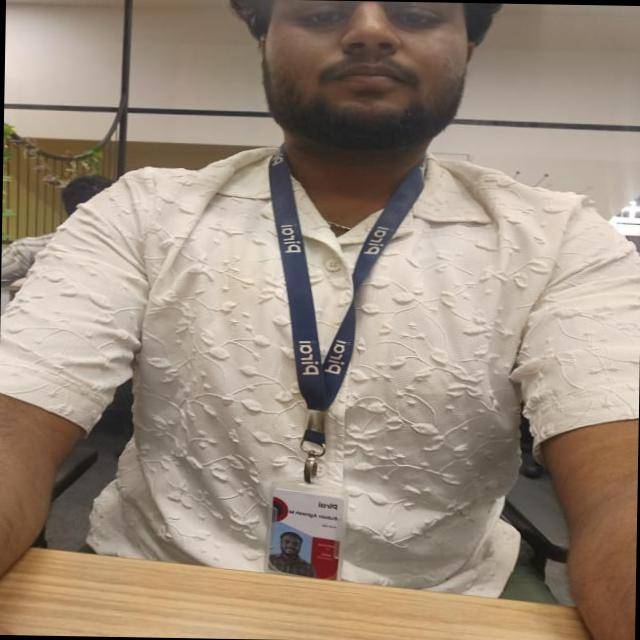id_card: (256, 142, 426, 596)
